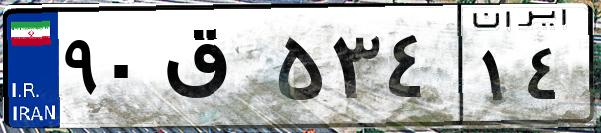0: (110, 28, 158, 98)
1: (475, 38, 525, 113)
3: (330, 28, 385, 110)
4: (385, 28, 445, 110), (525, 38, 570, 115)
5: (270, 28, 330, 110)
9: (57, 26, 110, 100)
ق: (158, 20, 270, 120)
